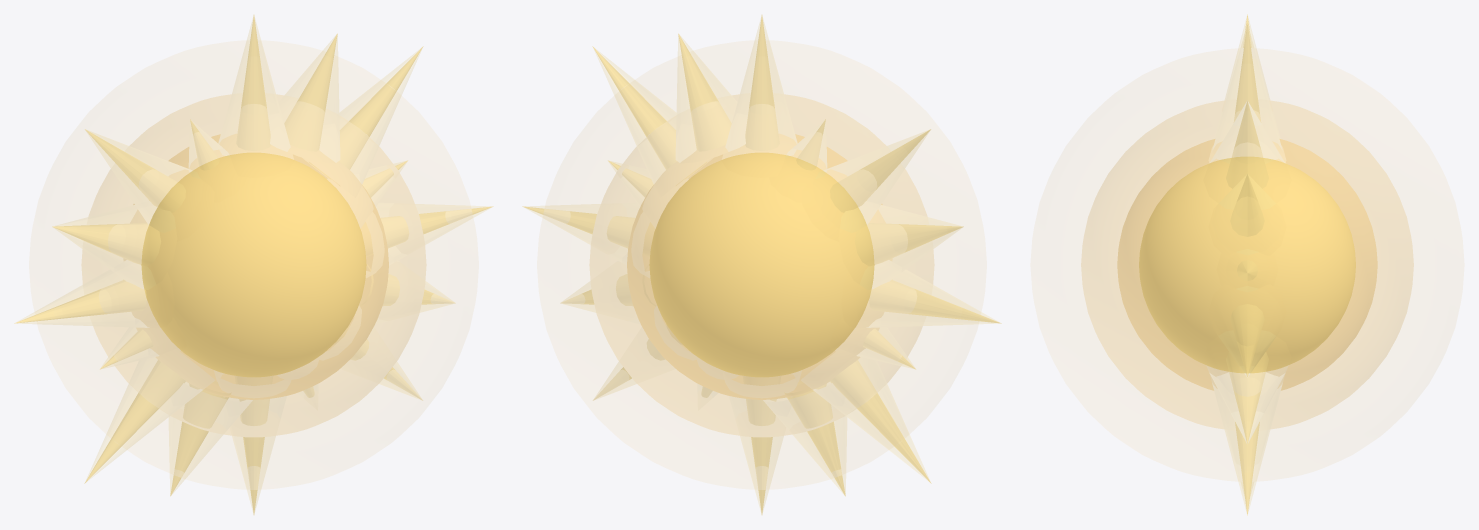
The model's file is fx3d-w-sun.glb.
3 renders of one model, left to right at view 1: azimuth 30°, elevation 25°; view 2: azimuth 150°, elevation 25°; view 3: azimuth 270°, elevation 25°, orthographic. The views are drawn at different scales.
Parts seen in each view (by area): view 1: halo18, sun.001, halo23, ray13_0, ray9_0, ray6_0, ray12_0, ray8_0, ray6_1, ray14_0, ray5_0, ray14_1 (+15 smaller); view 2: halo18, sun.001, halo23, ray13_0, ray9_0, ray6_0, ray12_0, ray8_0, ray6_1, ray14_0, ray5_0, ray14_1 (+15 smaller); view 3: halo18, sun.001, halo23, ray12_1, ray2_1, ray13_0, ray1_0, ray0_0, ray14_0, ray12_0, ray1_1, ray2_0 (+1 smaller).
Boxes of the visible parts, <box> form: halo18: <box>123,134,388,399</box>; sun.001: <box>141,152,366,377</box>; halo23: <box>81,94,426,436</box>; ray13_0: <box>284,34,337,151</box>; ray9_0: <box>52,223,160,265</box>; ray6_0: <box>84,360,185,483</box>; ray12_0: <box>236,15,270,150</box>; ray8_0: <box>14,280,146,323</box>; ray6_1: <box>86,357,201,481</box>; ray14_0: <box>309,46,423,185</box>; ray5_0: <box>170,381,230,495</box>; ray14_1: <box>339,48,421,183</box>; halo18: <box>627,134,892,399</box>; sun.001: <box>649,152,874,377</box>; halo23: <box>589,94,934,436</box>; ray13_0: <box>678,34,731,151</box>; ray9_0: <box>855,223,963,265</box>; ray6_0: <box>830,360,931,483</box>; ray12_0: <box>745,15,779,150</box>; ray8_0: <box>869,280,1001,323</box>; ray6_1: <box>814,357,929,481</box>; ray14_0: <box>592,46,706,185</box>; ray5_0: <box>785,381,845,495</box>; ray14_1: <box>594,48,676,183</box>; halo18: <box>1117,139,1377,390</box>; sun.001: <box>1139,157,1355,373</box>; halo23: <box>1081,100,1413,428</box>; ray12_1: <box>1213,24,1281,148</box>; ray2_1: <box>1213,385,1281,514</box>; ray13_0: <box>1226,101,1268,188</box>; ray1_0: <box>1226,352,1268,443</box>; ray0_0: <box>1230,304,1264,377</box>; ray14_0: <box>1230,174,1264,236</box>; ray12_0: <box>1234,23,1260,121</box>; ray1_1: <box>1211,374,1283,443</box>; ray2_0: <box>1235,422,1259,515</box>.
Size of the model in its own units: 0.738 by 0.738 by 0.6.
